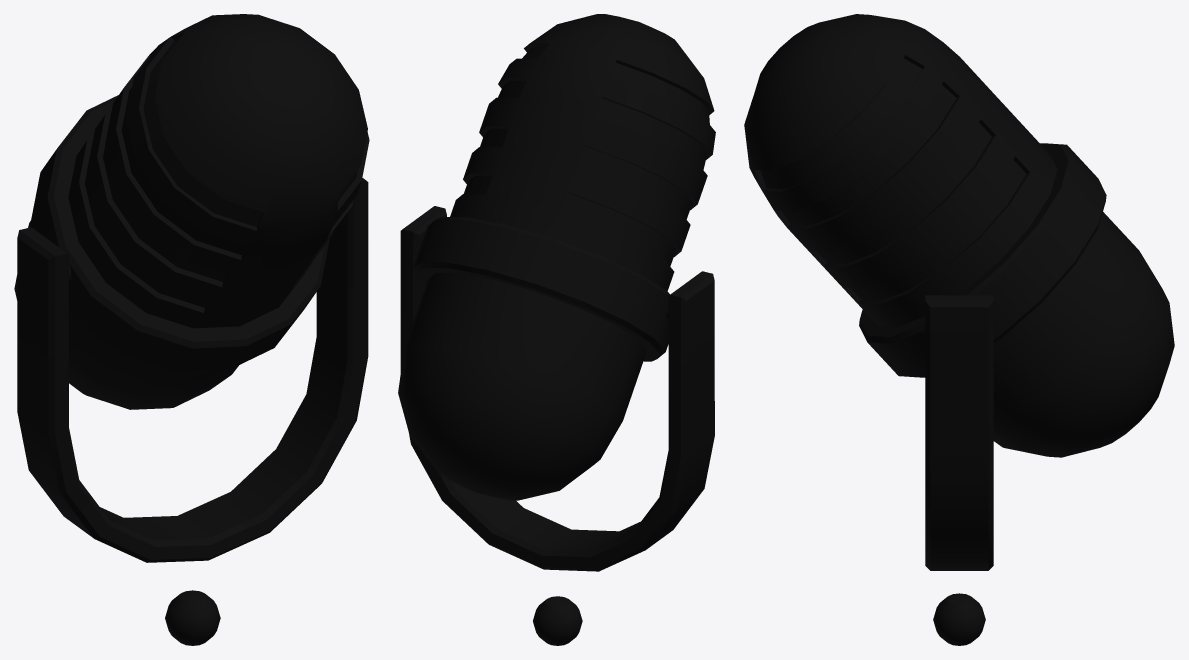
The model's file is M_Mesh_D_Display_hologram_01.fbx.
The picture shows the model from 3 angles, left to right: view 1: azimuth 30°, elevation 25°; view 2: azimuth 150°, elevation 25°; view 3: azimuth 270°, elevation 25°; orthographic projection. The views are drawn at different scales.
Parts seen in each view (by area): view 1: M_Mesh_D_Display_hologram_01; view 2: M_Mesh_D_Display_hologram_01; view 3: M_Mesh_D_Display_hologram_01.
Part boxes in pixels (x1,y1,x2,y2): M_Mesh_D_Display_hologram_01: [14, 14, 369, 645]; M_Mesh_D_Display_hologram_01: [398, 14, 715, 645]; M_Mesh_D_Display_hologram_01: [744, 14, 1174, 645].
Bounding box in the file's own units: 0.6019 × 1.18 × 0.7411.
Materials: 1 (1 with a texture image).
